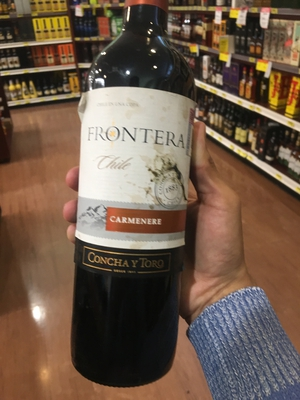frontera carmenere: (70, 22, 197, 400)
